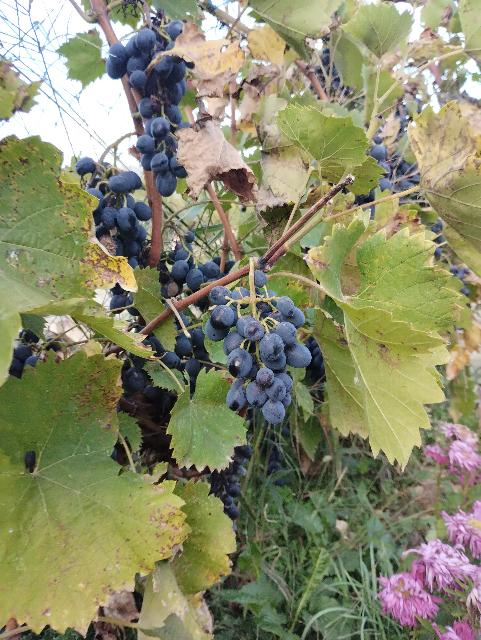grapes: (205, 261, 312, 424), (106, 15, 190, 196), (75, 158, 152, 269)
